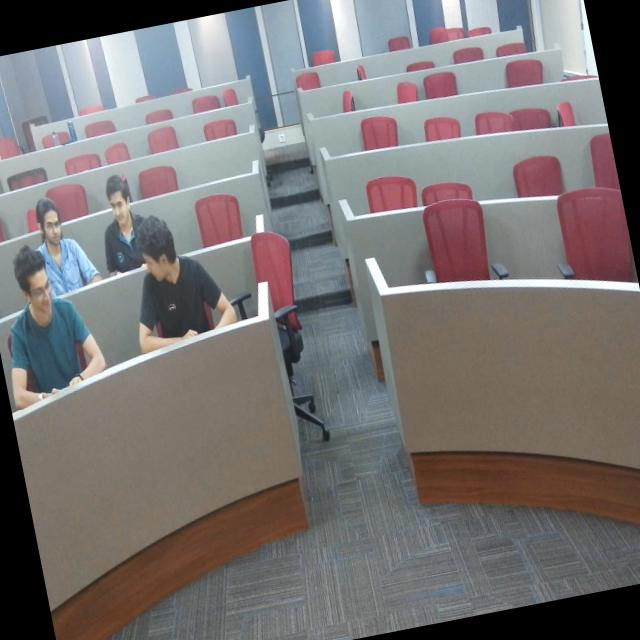cheating: (117, 212, 238, 364), (0, 251, 106, 423), (28, 188, 97, 296), (88, 171, 152, 269)
